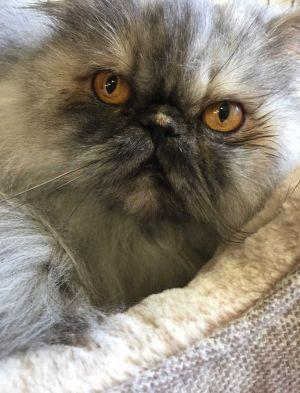persian: (1, 1, 300, 248)
